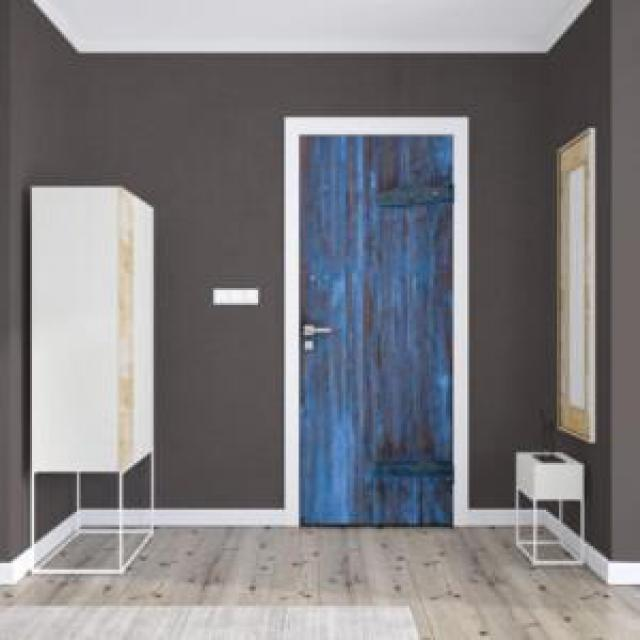door: (272, 101, 477, 545)
